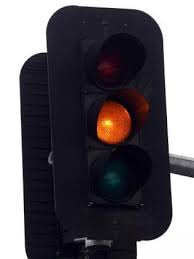amber: (75, 28, 154, 219), (82, 37, 146, 210)
